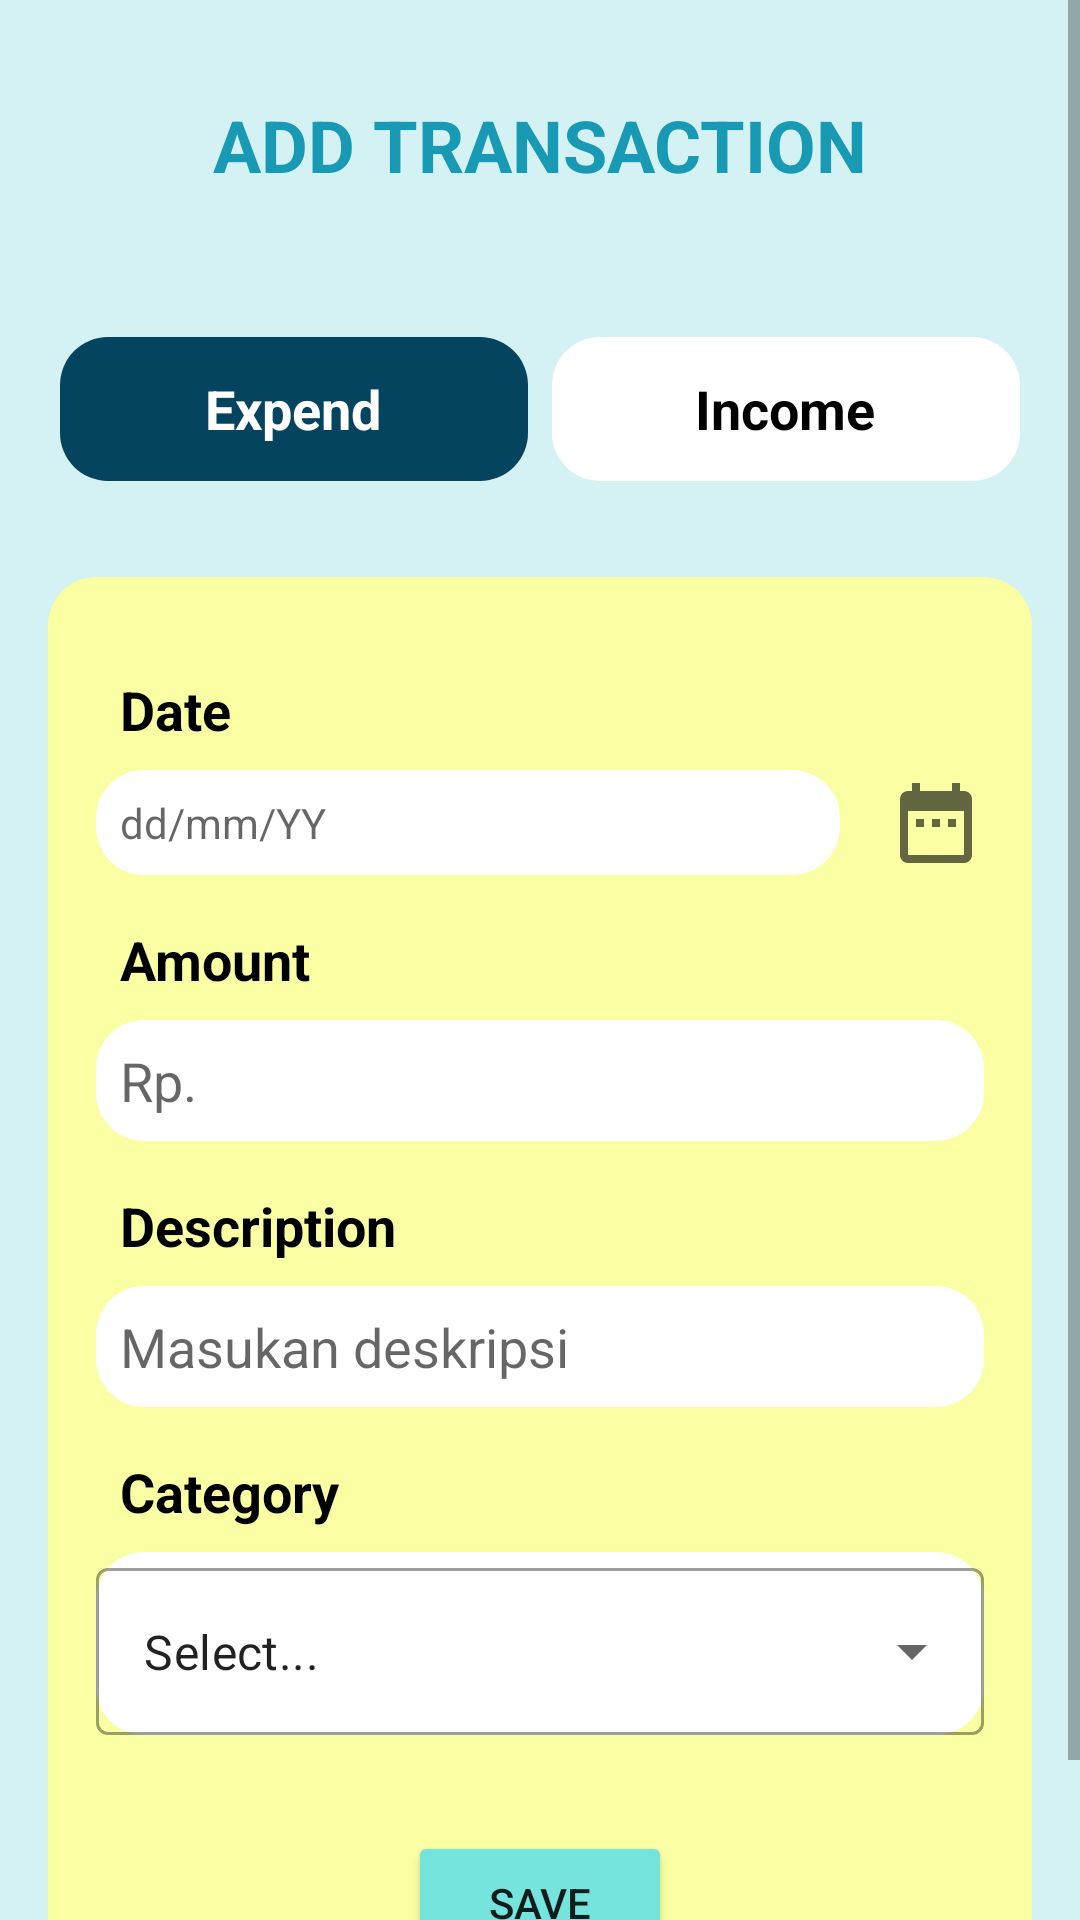

Locate icon controls on the screen. Image size 1080×1920, boxes as (x1, y1, x2, y2).
date: (900, 783, 972, 863)
